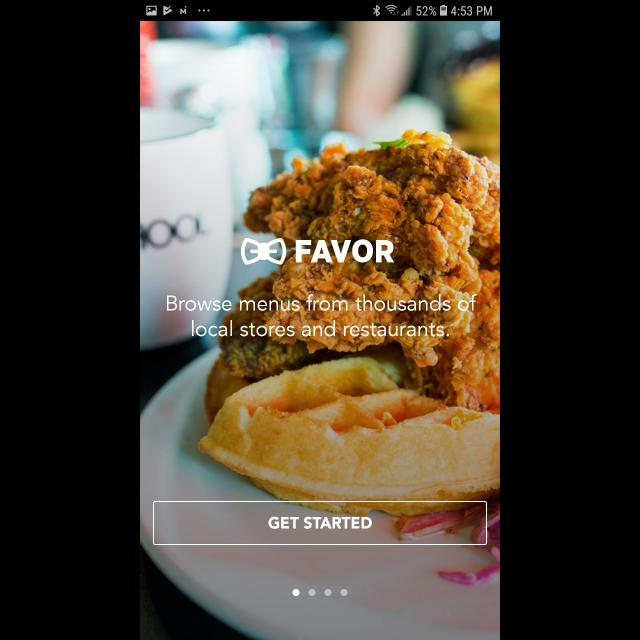backgroundimage: (140, 22, 500, 640)
image: (241, 238, 287, 264)
pageindicator: (292, 588, 348, 596)
text: (167, 294, 477, 336), (296, 240, 394, 262)
textbutton: (153, 501, 487, 545)
uppertaskbar: (140, 1, 500, 22)
